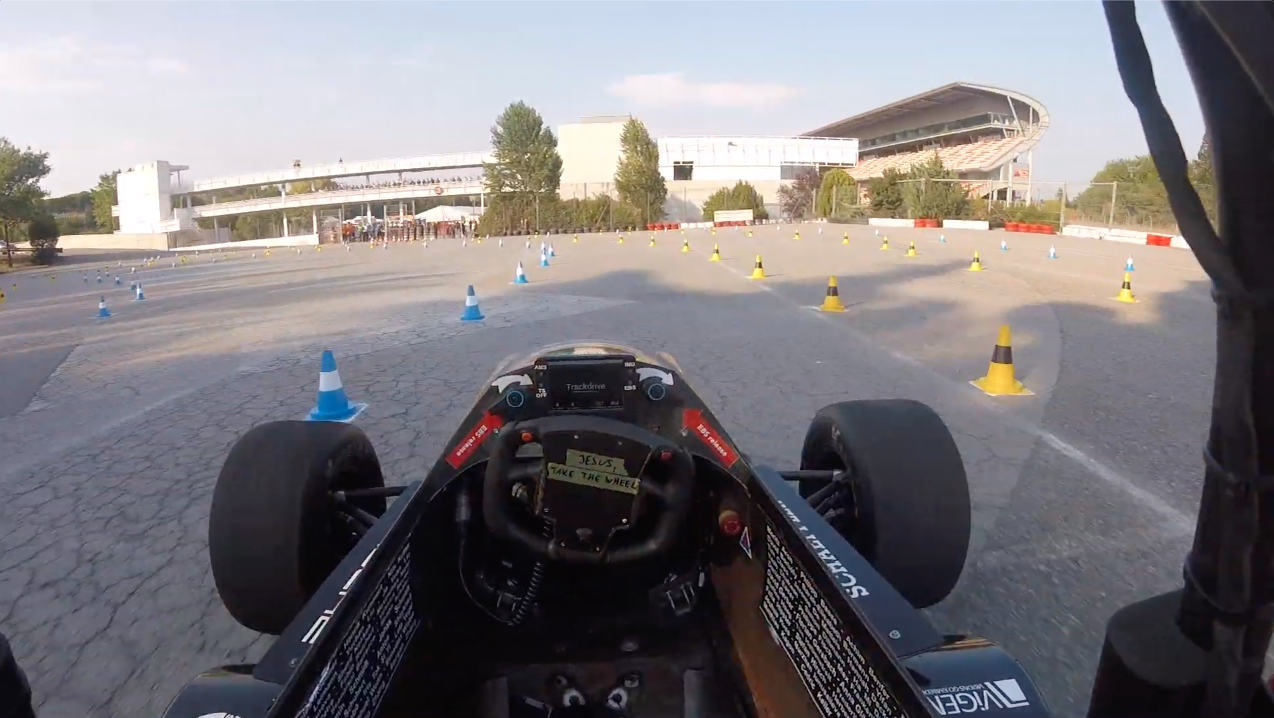lcone: (300, 348, 366, 426), (456, 281, 486, 324), (509, 259, 532, 285)
rcone: (968, 321, 1036, 398), (815, 271, 850, 314), (1113, 271, 1142, 305), (749, 253, 768, 280)
